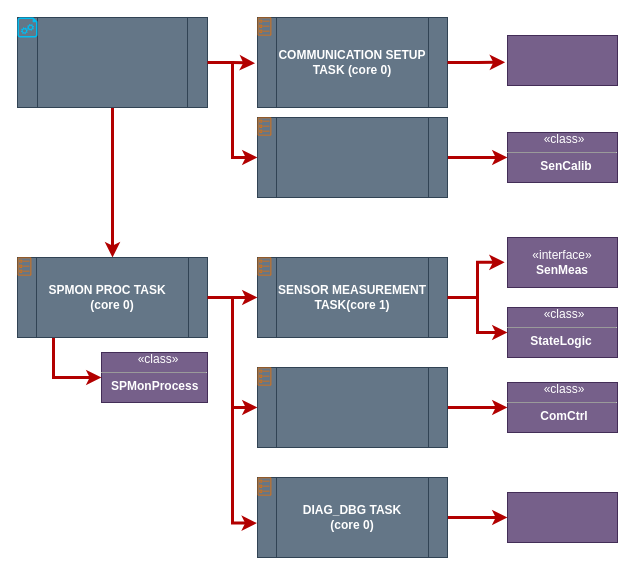
Image size: 635x575. Some labels were removed from this diagram. Here are the shapes that lost their labels. From the top down, the box of each, then its label:
(16, 16, 208, 108): INIT TASK (core 0)
(506, 34, 618, 86): « class » ComInit
(256, 116, 448, 198): SENSOR CALIBRATION TASK(core 1)
(256, 366, 448, 448): COMUNICATION TASK(core 0)
(506, 492, 618, 542): « class » DiagDbg
